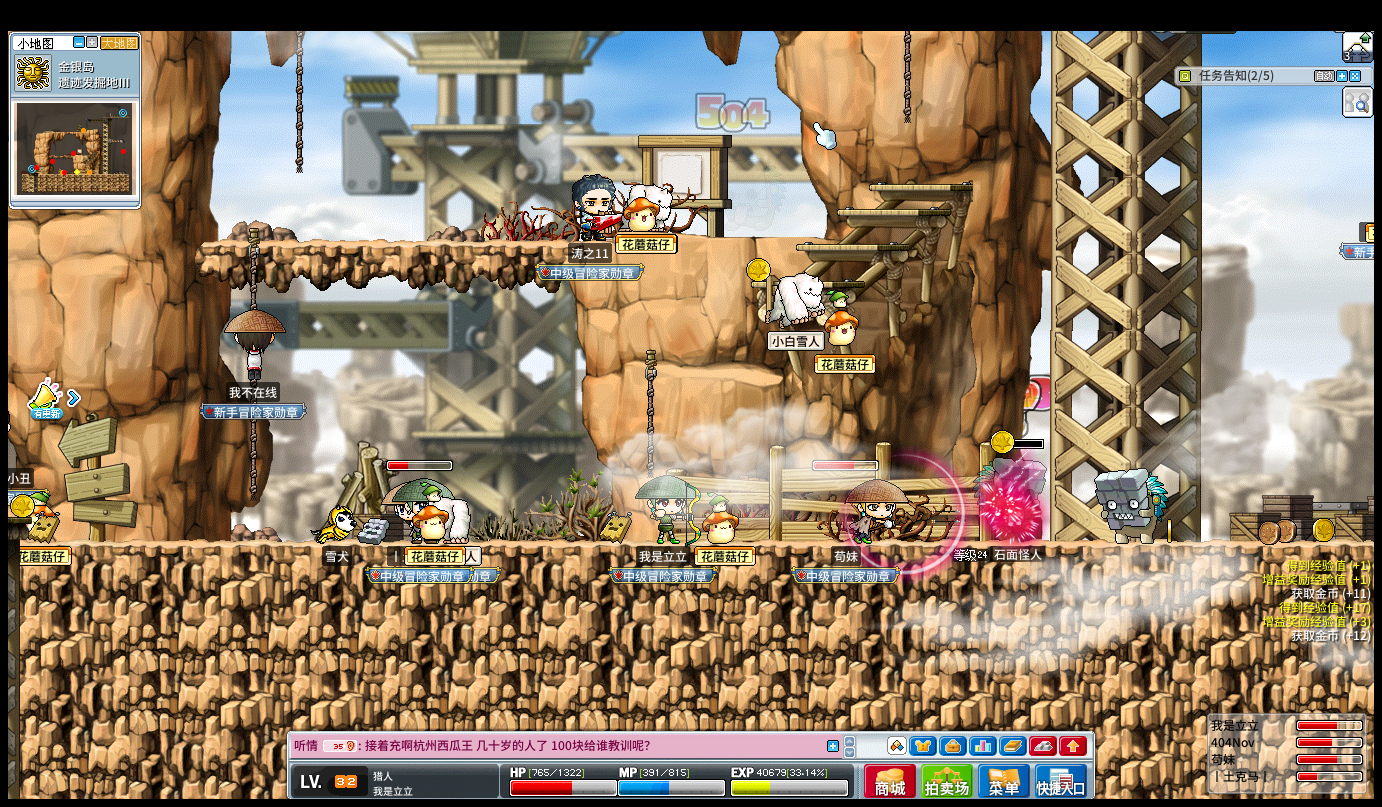floor: (192, 238, 573, 249), (674, 365, 783, 385), (685, 237, 912, 244), (832, 207, 948, 215), (793, 243, 913, 250), (869, 184, 974, 191)
monster: (976, 453, 1043, 538), (1096, 469, 1169, 545)
rope: (644, 349, 655, 480), (294, 31, 303, 174), (245, 226, 257, 309), (248, 419, 257, 504), (250, 419, 259, 502), (902, 30, 910, 122)
